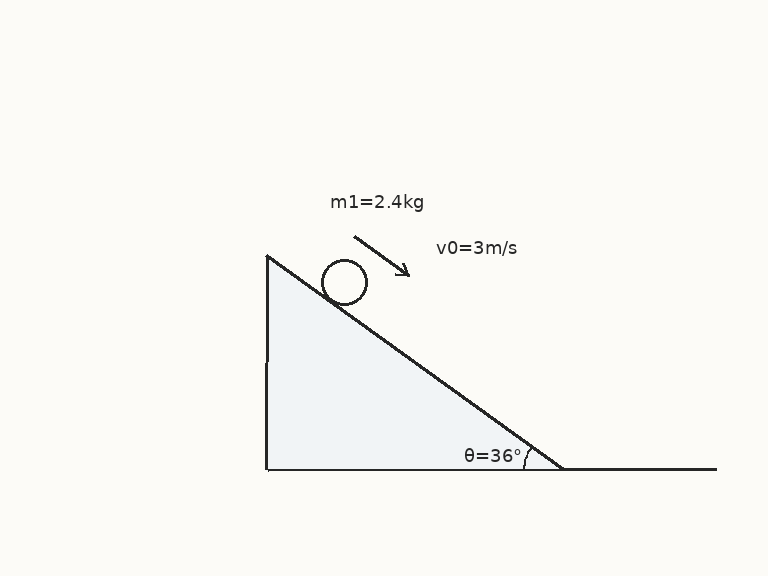ball: (319, 257, 369, 307)
ramp: (264, 252, 566, 472)
